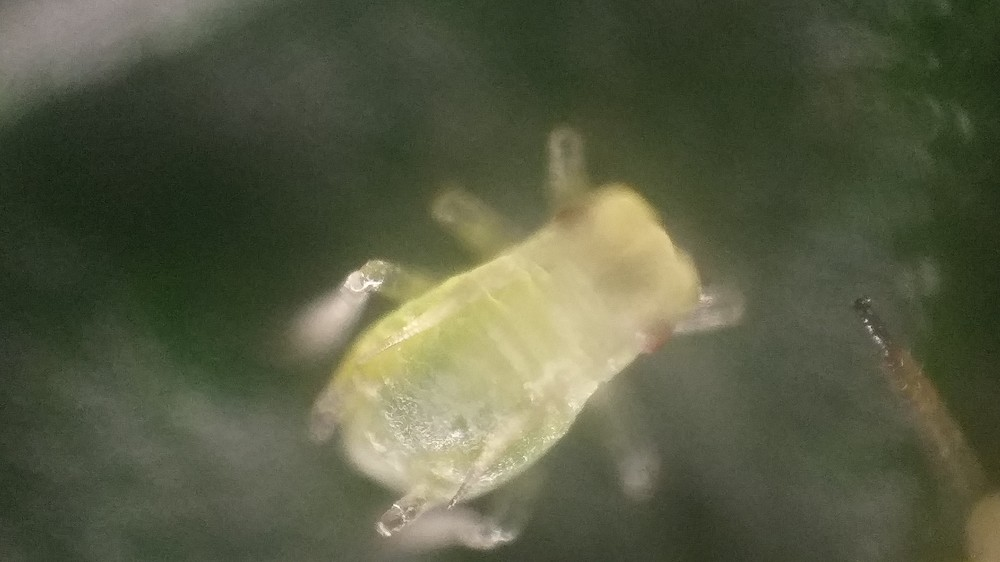Pulgon: (260, 119, 755, 556)
